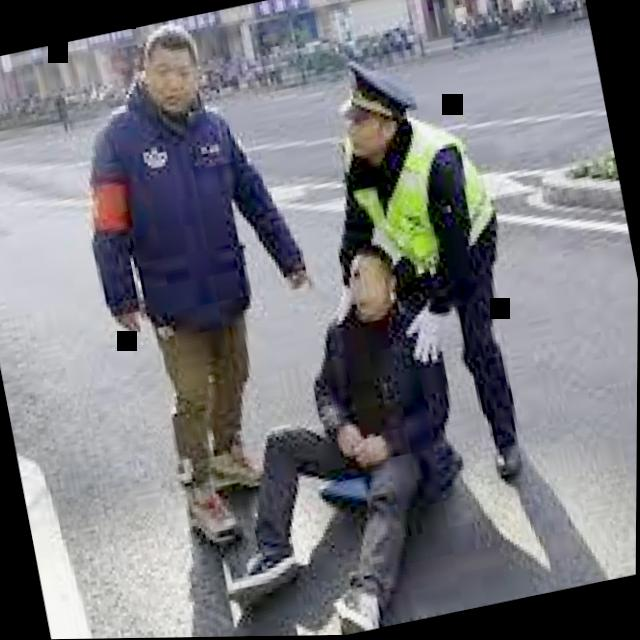Fall-Detected: (152, 203, 507, 638)
